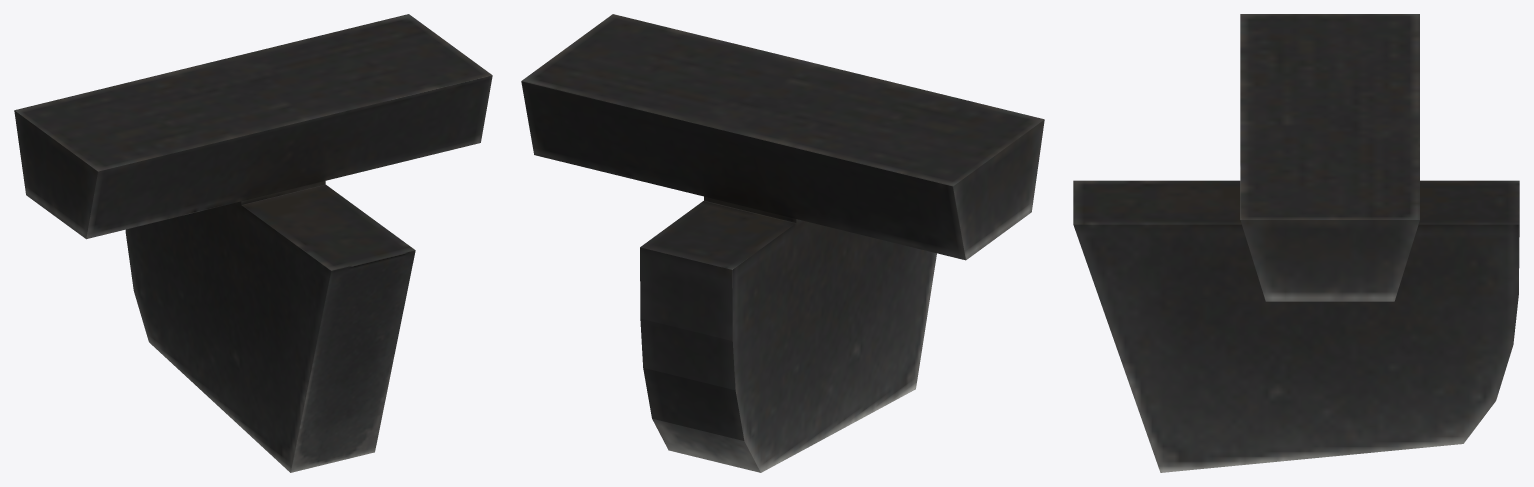
3 renders of one model, left to right at view 1: azimuth 30°, elevation 25°; view 2: azimuth 150°, elevation 25°; view 3: azimuth 270°, elevation 25°, orthographic. The views are drawn at different scales.
Visible parts, largest first — view 1: TW_6194f3286db0f2477964e67d_PZ_Import; view 2: TW_6194f3286db0f2477964e67d_PZ_Import; view 3: TW_6194f3286db0f2477964e67d_PZ_Import.
Boxes of the visible parts, x1,y1,x2,y2 form: TW_6194f3286db0f2477964e67d_PZ_Import: (14,14,492,472); TW_6194f3286db0f2477964e67d_PZ_Import: (521,14,1044,472); TW_6194f3286db0f2477964e67d_PZ_Import: (1073,14,1519,472).
Size of the model in its own units: 0.00864 by 0.0079 by 0.00652.
1 material, 1 textured.
